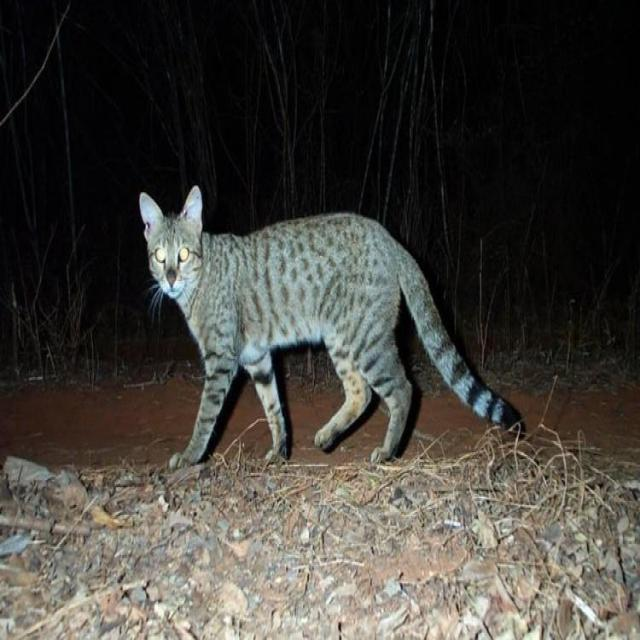Cat: (137, 186, 207, 306)
